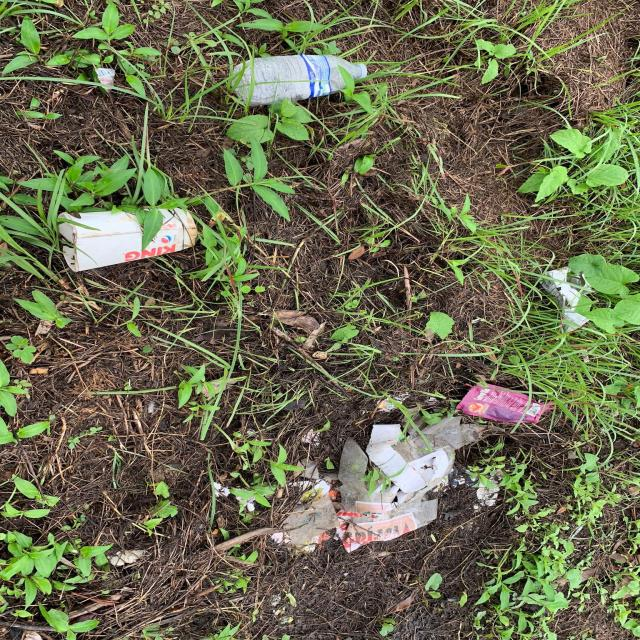litter: (268, 415, 487, 556), (52, 204, 207, 278), (224, 52, 368, 107), (458, 383, 549, 423), (93, 65, 115, 93)
